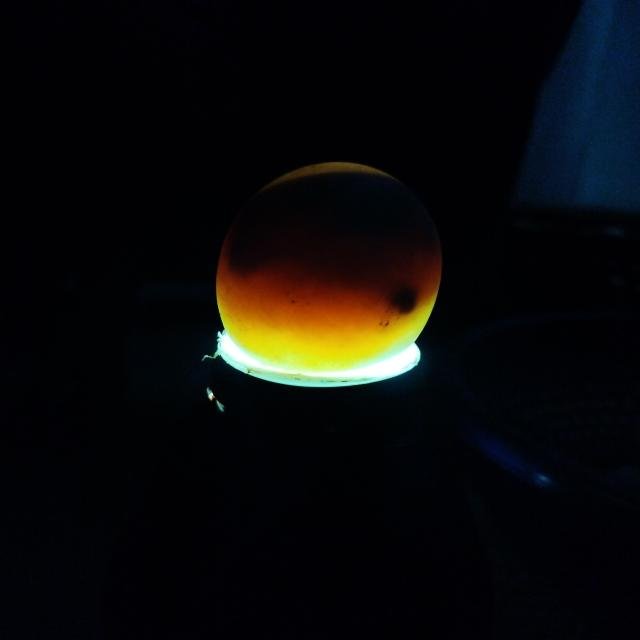Area Infectada: (220, 173, 442, 315)
